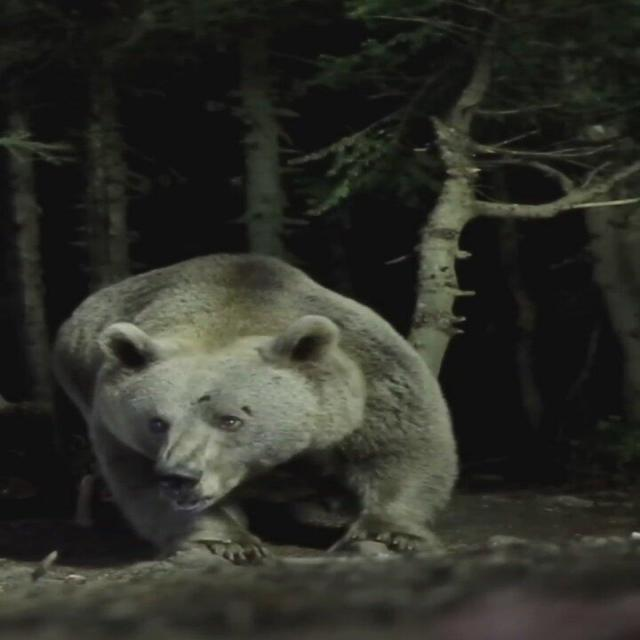Bear: (51, 254, 460, 563)
